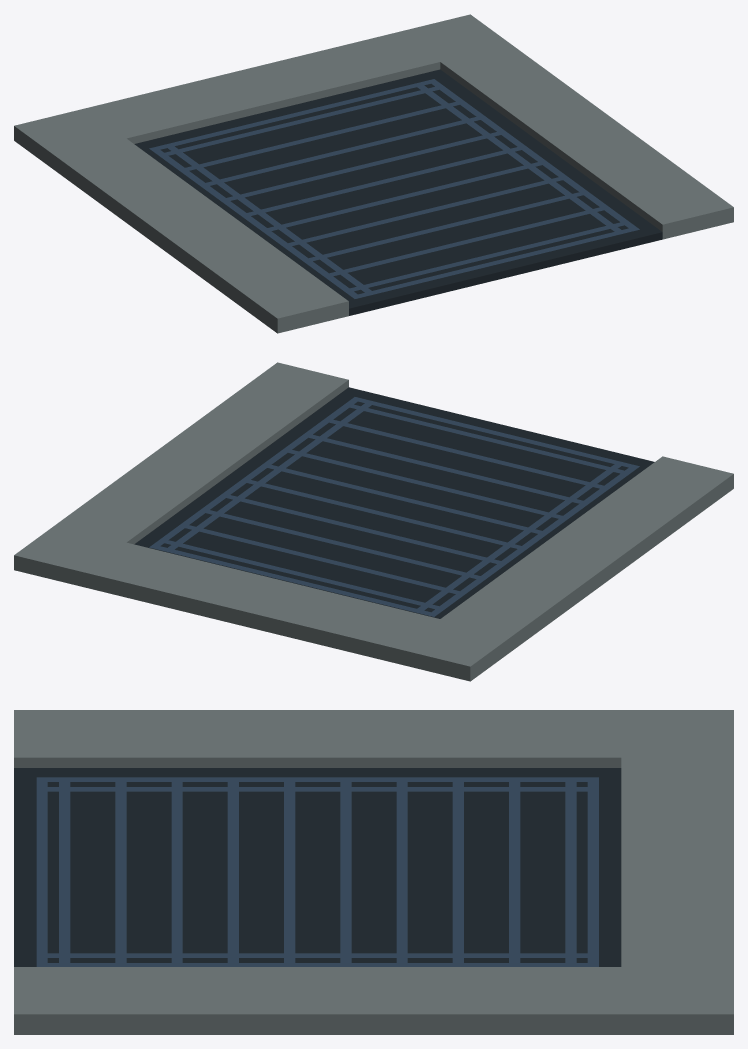
The model's file is Clear.obj.
3 views of the same model, one above another, from view 1: azimuth 30°, elevation 25°; view 2: azimuth 150°, elevation 25°; view 3: azimuth 270°, elevation 25° (orthographic). The views are drawn at different scales.
Bounding box in the file's own units: 6.4 × 0.2 × 6.4.
1 material, 1 textured.
